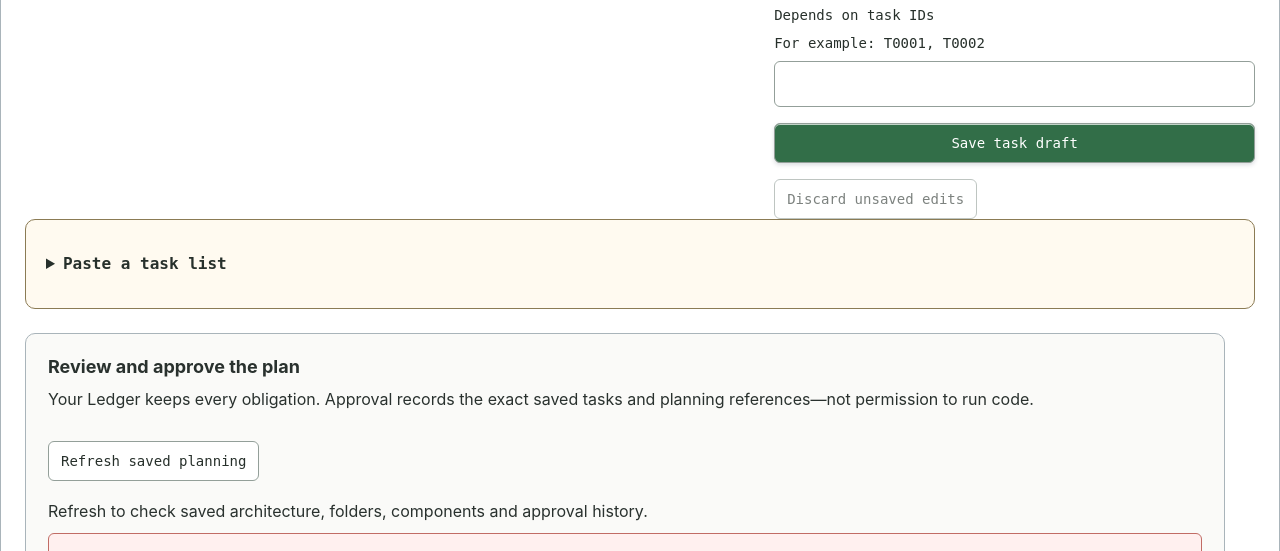
Scenario: editing the pasted text clears an old preview so Add never uses stale text
(page scrolled)
Click the heading "Paste a task list" at {"x": 145, "y": 264}, box [63,254,227,273]
(page scrolled)
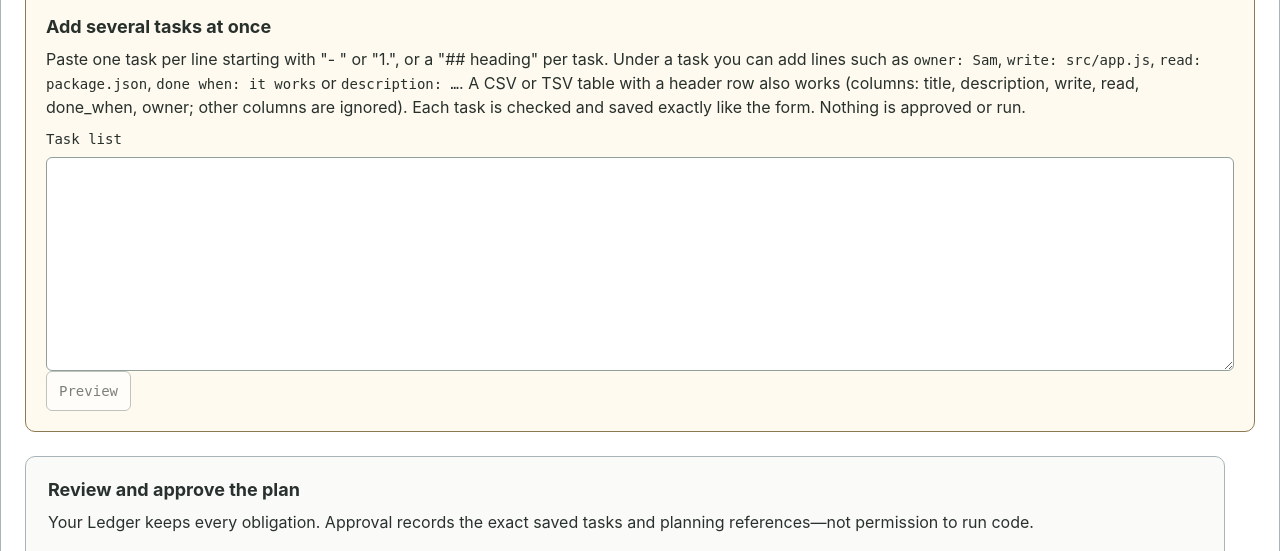
Type "- Add login page   owner: Sam   write: src/login.jsx   done when: A user can sign in - Fix crash on start   read: src/main.js - Write setup guide   description: Explain install steps" into the text box labelled "Task list" at {"x": 640, "y": 264}, box [46,157,1234,371]
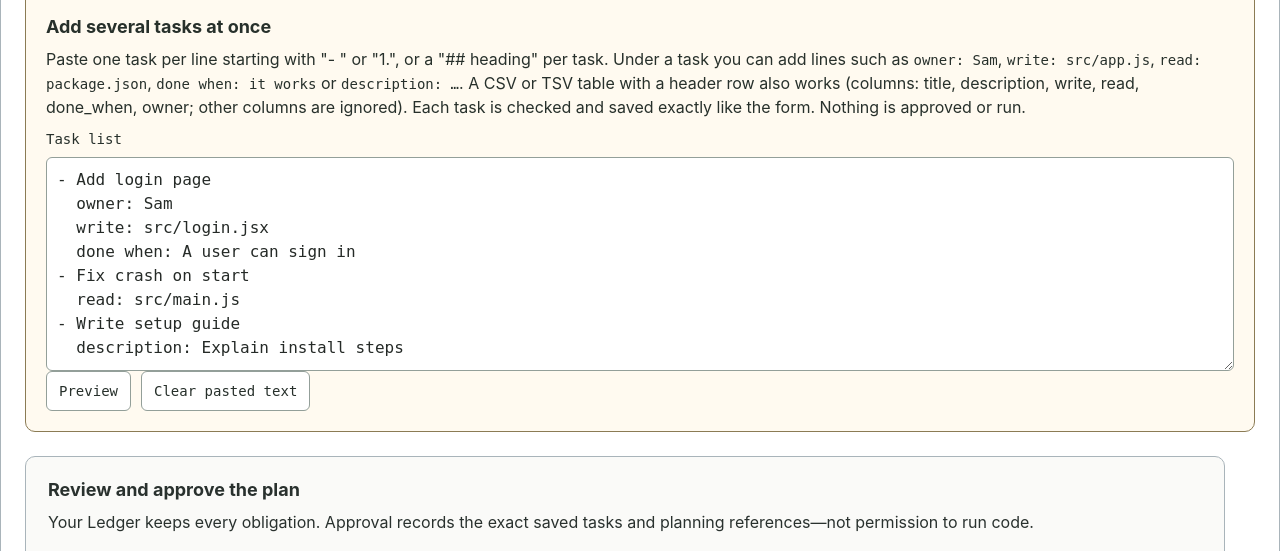
Click the button "Preview" at {"x": 88, "y": 391}, box [46,371,131,411]
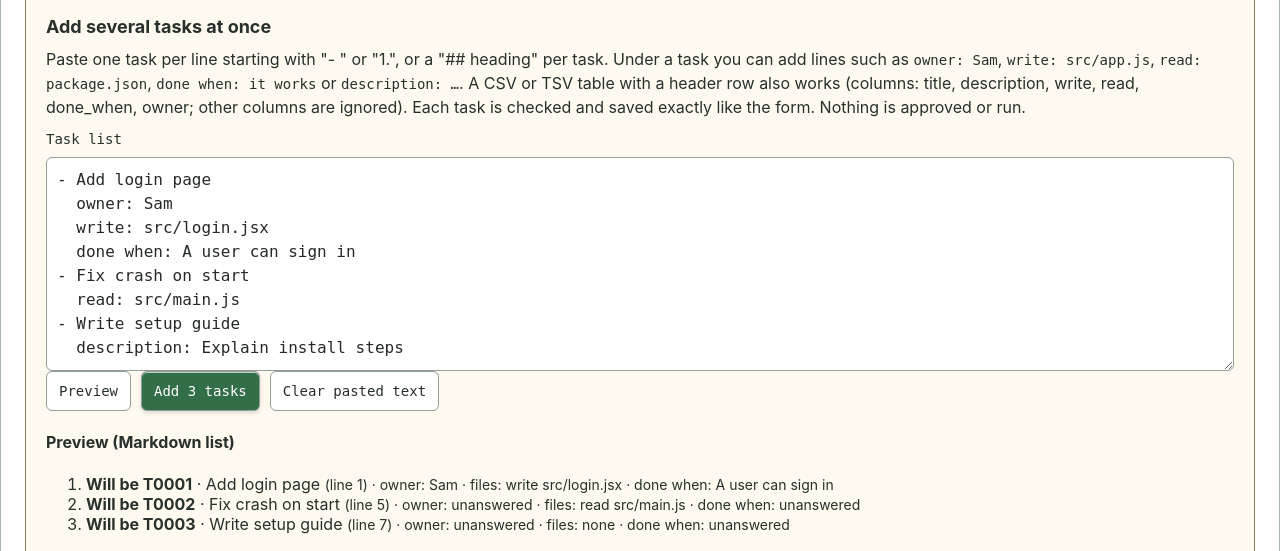
Check: the button "Add 3 tasks" is shown, box [141,371,260,411]
Replace the text in the text box labelled "Task list" with "- Only one" at {"x": 640, "y": 264}, box [46,157,1234,371]
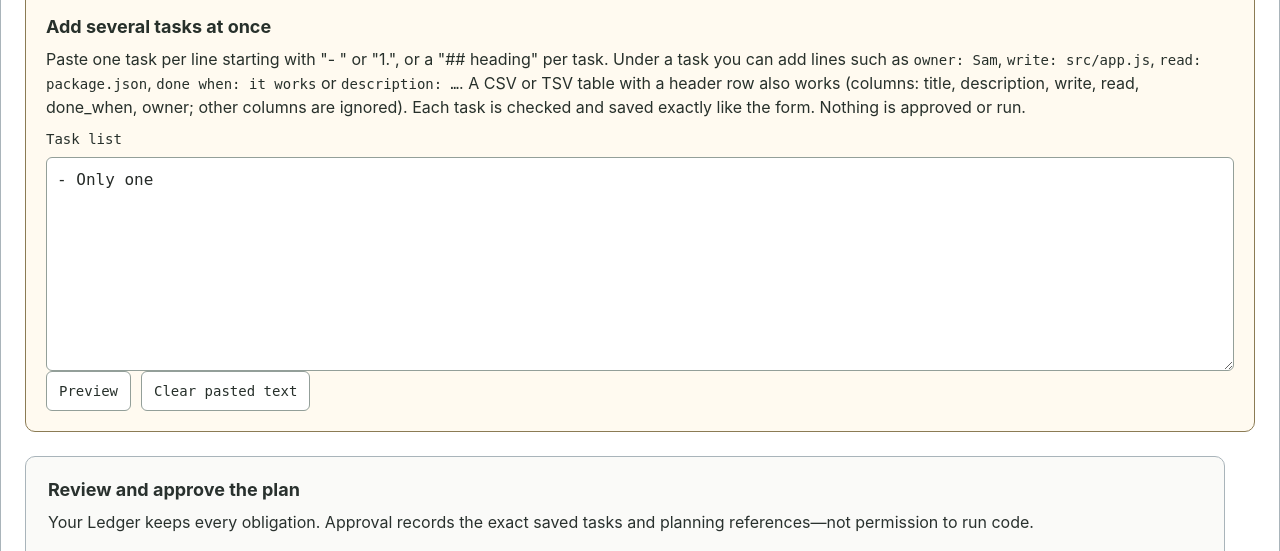
Check: the button "Add 3 tasks" is gone
